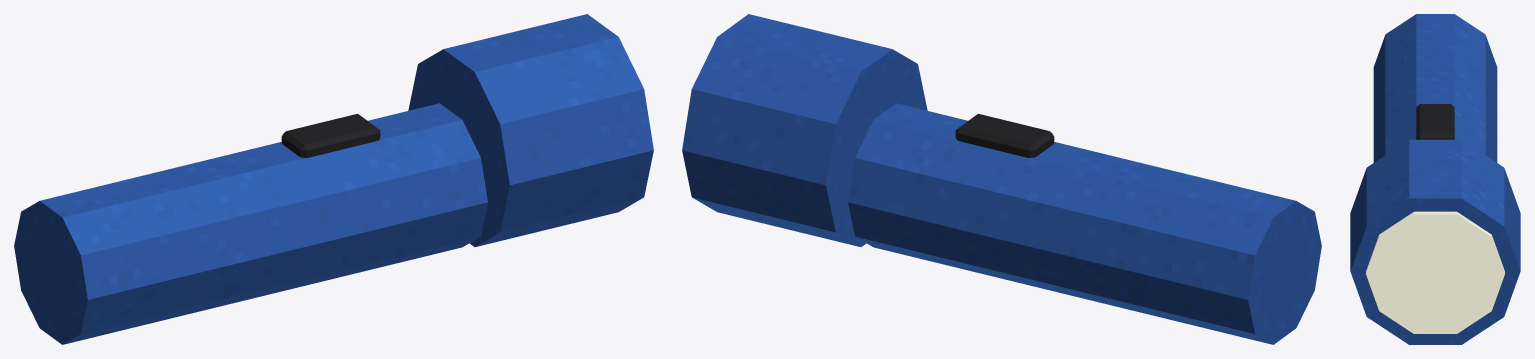
The model's file is flashlight.glb.
3 renders of one model, left to right at view 1: azimuth 30°, elevation 25°; view 2: azimuth 150°, elevation 25°; view 3: azimuth 270°, elevation 25°, orthographic. The views are drawn at different scales.
Parts seen in each view (by area): view 1: block_body, block_head, block_switch; view 2: block_body, block_head, block_switch; view 3: block_head, block_body, block_lens, block_switch.
Part boxes in pixels (box(x1,y1,x2,y2)): block_body: box(14, 103, 487, 344); block_head: box(408, 14, 653, 246); block_switch: box(281, 113, 380, 158); block_body: box(848, 103, 1321, 344); block_head: box(682, 14, 927, 246); block_switch: box(955, 113, 1054, 158); block_head: box(1350, 139, 1520, 344); block_body: box(1373, 14, 1497, 162); block_lens: box(1366, 211, 1504, 333); block_switch: box(1416, 104, 1454, 139).
Size of the model in its own units: 0.1395 by 0.0421 by 0.044.
2 materials, 2 textured.
